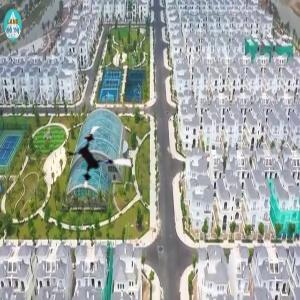drone: (64, 124, 135, 195)
